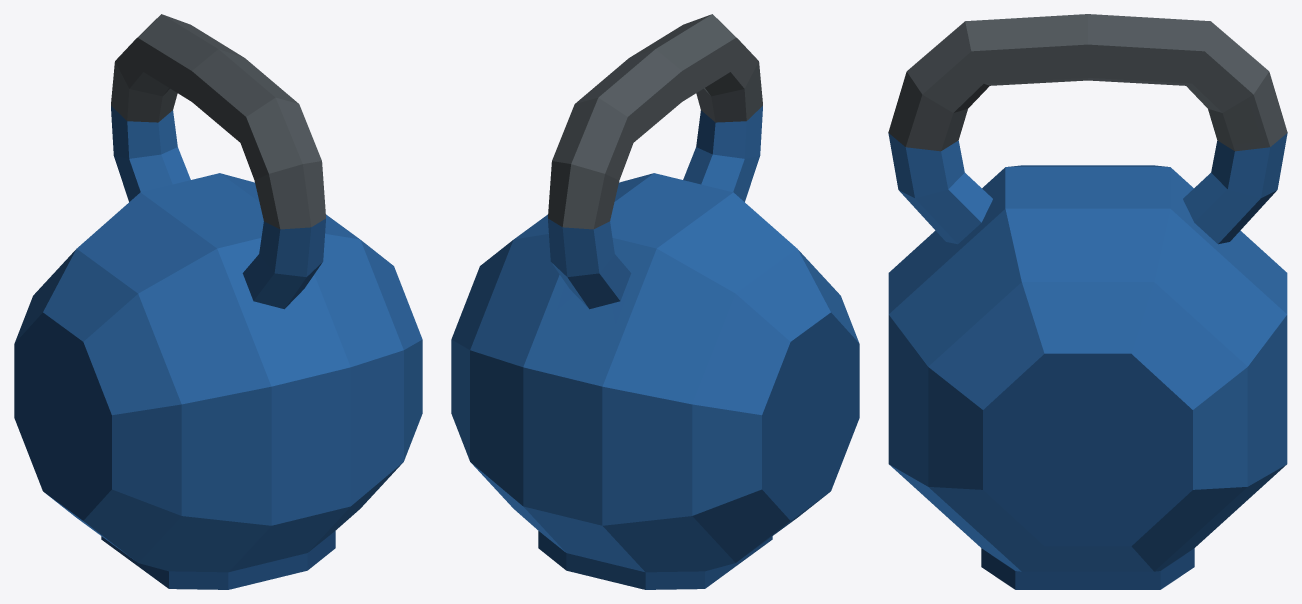
File: Kettle_Bell.fbx
3 renders of one model, left to right at view 1: azimuth 30°, elevation 25°; view 2: azimuth 150°, elevation 25°; view 3: azimuth 270°, elevation 25°, orthographic. The views are drawn at different scales.
Visible parts, largest first — view 1: Kettle_Bell; view 2: Kettle_Bell; view 3: Kettle_Bell.
Boxes of the visible parts, x1,y1,x2,y2 form: Kettle_Bell: (14, 14, 422, 589); Kettle_Bell: (451, 14, 859, 589); Kettle_Bell: (888, 14, 1287, 589).
Size of the model in its own units: 53.35 by 81.2 by 55.22.
Materials: 1 (1 with a texture image).
